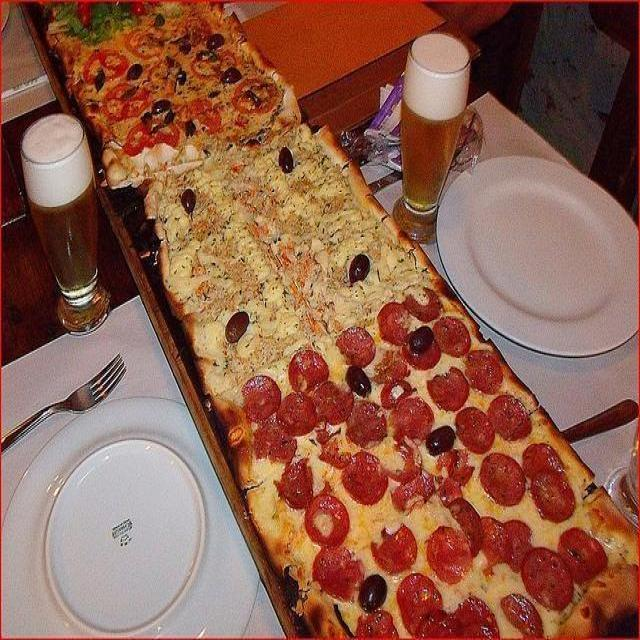glass-normal: (21, 114, 112, 335), (390, 30, 472, 245)
